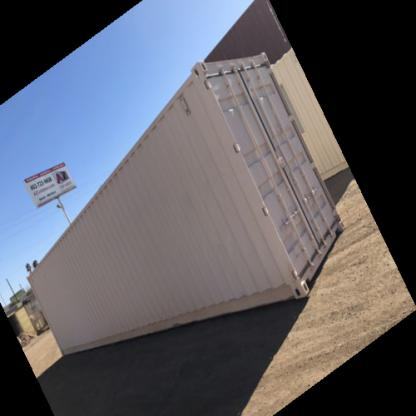Damage: (129, 298, 180, 322)
